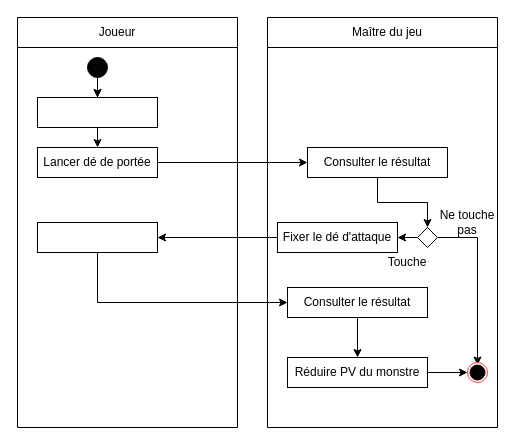
Some shapes in this 515 by 445 pixel diagram are drawn without their labels. Each missing label, with the centre of its shape:
"Attaquer un monstre" goes at point 97,112.
"Lancer dé d'attaque" goes at point 97,237.
